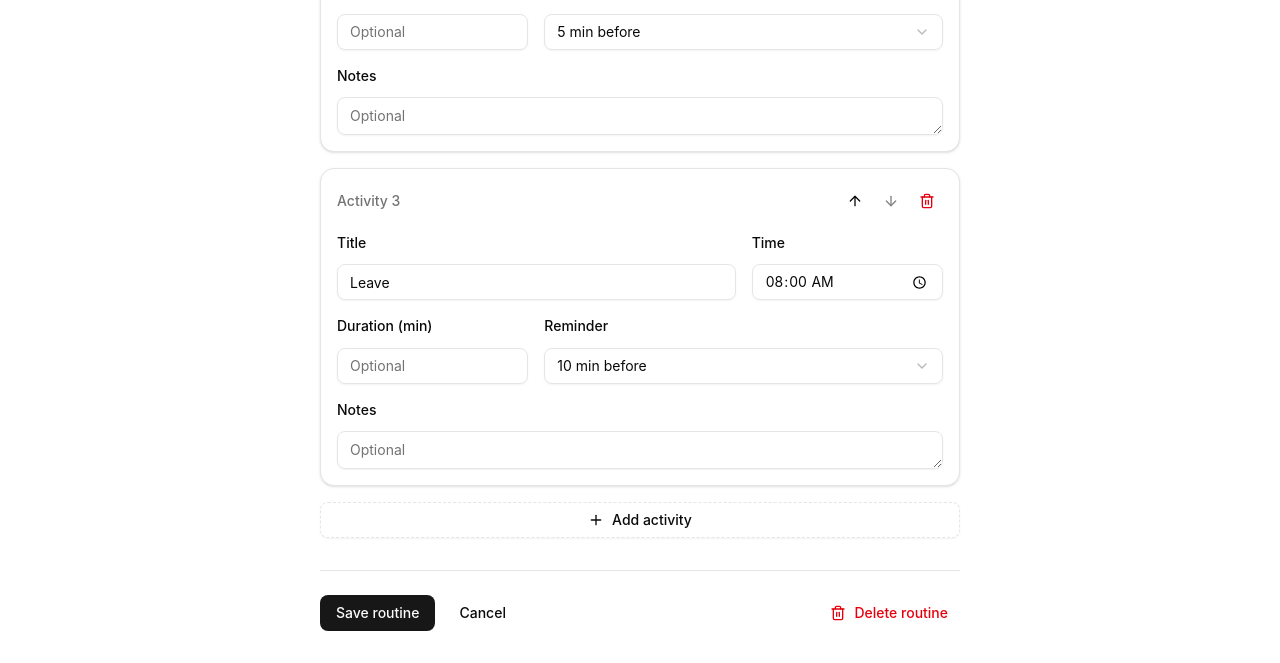
Test: editing a routine › deletes a routine after confirmation
(page scrolled)
Click the button "Delete routine" at [889, 613], box [818,595,960,631]
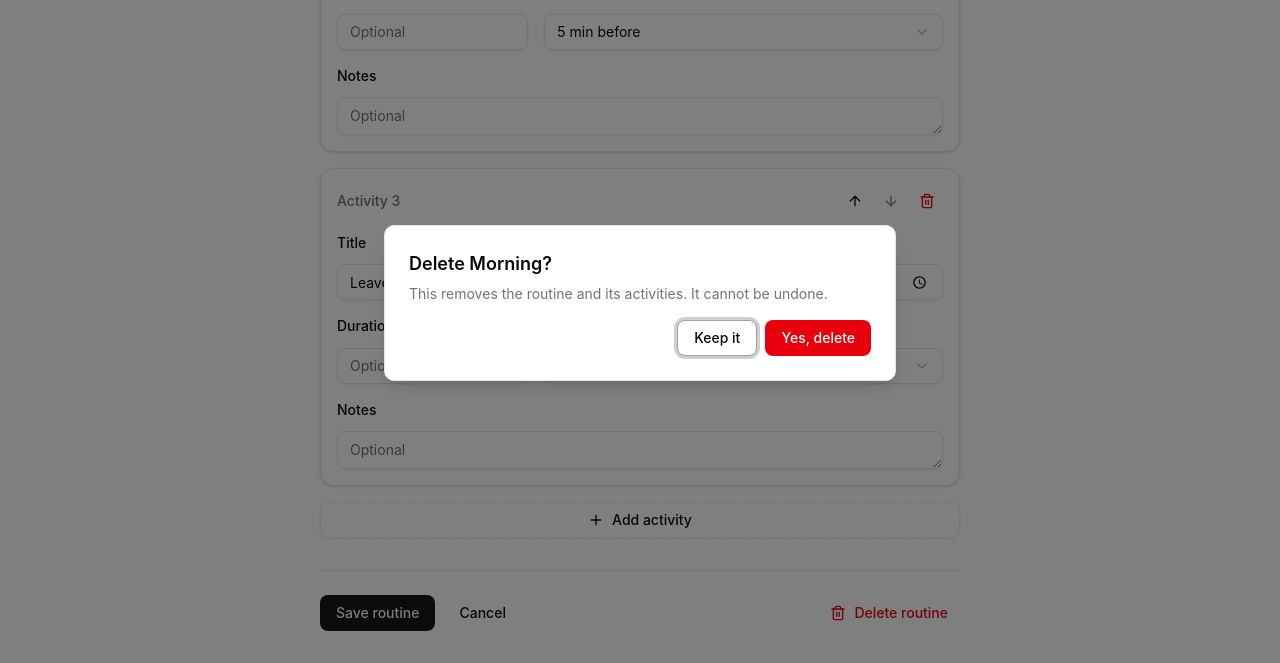
Expected: the dialog "Delete Morning?" is shown, [384,225,896,381]
Click the button "Keep it" at [717, 338], box [677,320,757,356]
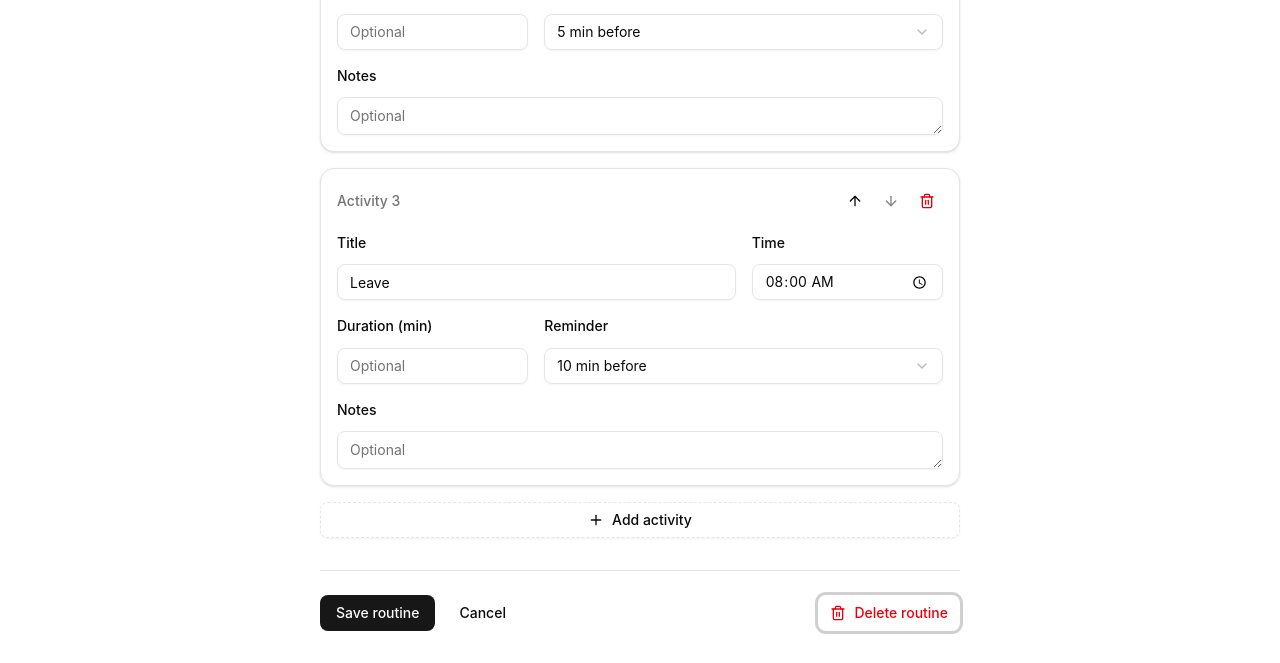
Expected: the dialog is gone
Click the button "Delete routine" at [889, 613], box [818,595,960,631]
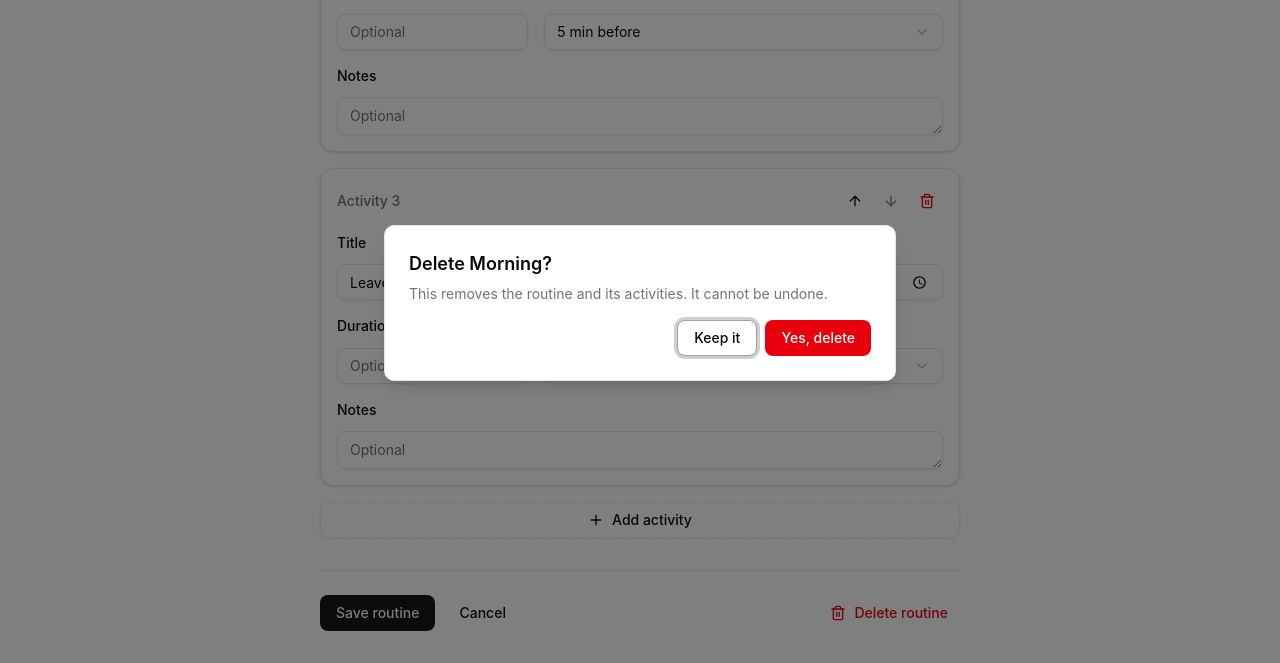
Click the button "Yes, delete" at [818, 338], box [765,320,871,356]
(page scrolled)
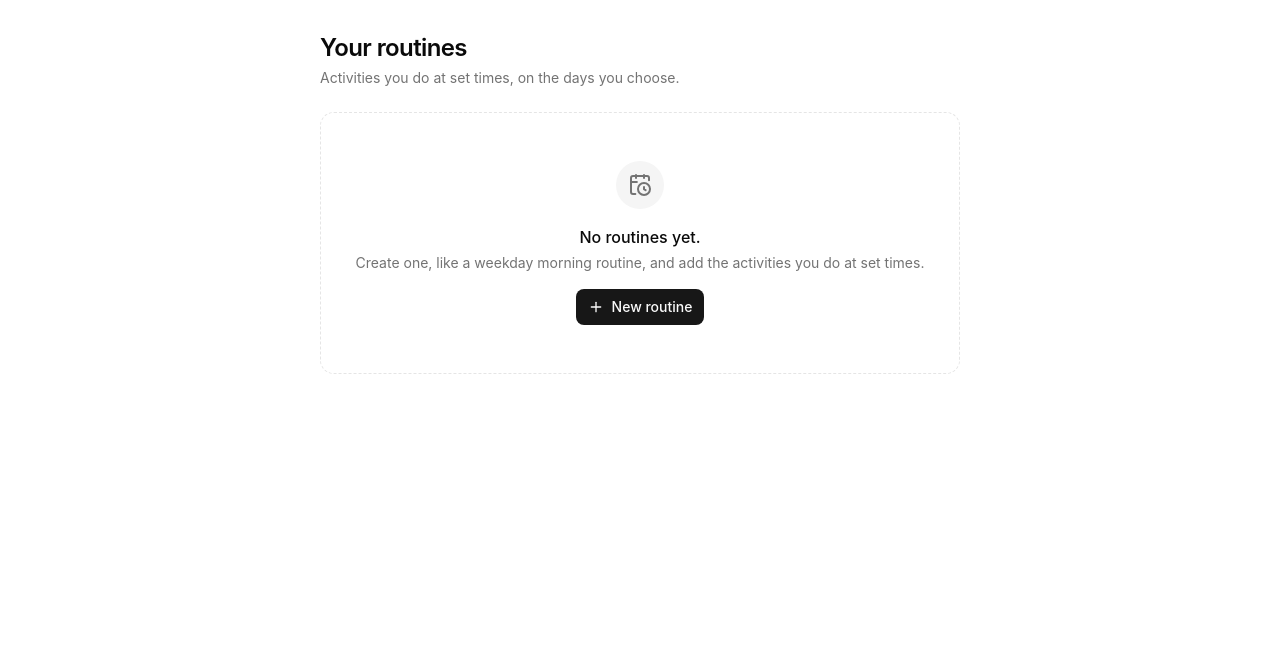
Expected: the text "No routines yet." is shown, [579,227,701,247]
